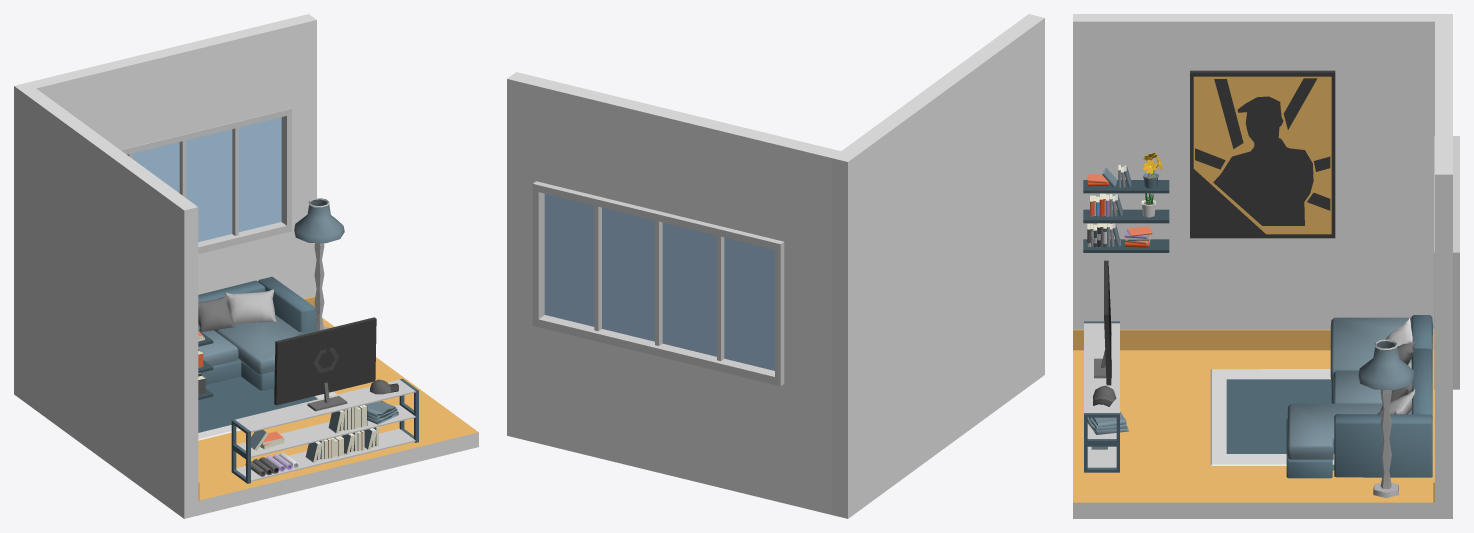
File: room_3.glb
3 renders of one model, left to right at view 1: azimuth 30°, elevation 25°; view 2: azimuth 150°, elevation 25°; view 3: azimuth 270°, elevation 25°, orthographic. The views are drawn at different scales.
Visible parts, largest first — view 1: Walls_006.011, Walls_006.014, window_017.002, Walls_010.002, sofa_033.001, electronics_031.007, Walls_006.010, shelf_061.001, Walls_006.013, carpet_004.001, lamp_027.001, Walls_006.012 (+4 smaller); view 2: Walls_006.011, window_017.002, Walls_006.013, Walls_006.014, Walls_006.012, Walls_006.010; view 3: Walls_006.011, Walls_010.002, picture_063.001, sofa_033.001, carpet_004.001, Walls_006.010, Walls_024.034, shelf_061.001, lamp_027.001, Walls_006.014, window_017.002, electronics_031.007 (+8 smaller).
Part boxes in pixels (x1,y1,x2,y2): Walls_006.011: (14,82,198,518); Walls_006.014: (70,21,288,149); window_017.002: (120,108,291,254); Walls_010.002: (198,316,478,515); sofa_033.001: (198,276,319,390); electronics_031.007: (274,317,376,411); Walls_006.010: (281,14,316,298); shelf_061.001: (231,378,418,483); Walls_006.013: (198,232,288,294); carpet_004.001: (198,376,337,440); lamp_027.001: (294,198,344,330); Walls_006.012: (28,72,78,118); Walls_006.011: (831,14,1044,518); window_017.002: (532,181,784,386); Walls_006.013: (539,327,782,502); Walls_006.014: (539,80,791,241); Walls_006.012: (783,139,840,514); Walls_006.010: (507,72,548,443); Walls_006.011: (1073,14,1452,329); Walls_010.002: (1073,350,1434,518); picture_063.001: (1190,70,1335,238); sofa_033.001: (1286,315,1433,478); carpet_004.001: (1210,369,1334,465); Walls_006.010: (1435,159,1452,518); Walls_024.034: (1073,329,1433,350); shelf_061.001: (1084,321,1119,472); lamp_027.001: (1358,339,1414,497); Walls_006.014: (1435,44,1452,159); window_017.002: (1434,136,1459,389); electronics_031.007: (1094,260,1111,385).
Size of the model in its own units: 4.23 by 4.2 by 4.27.
Materials: 1 (1 with a texture image).
